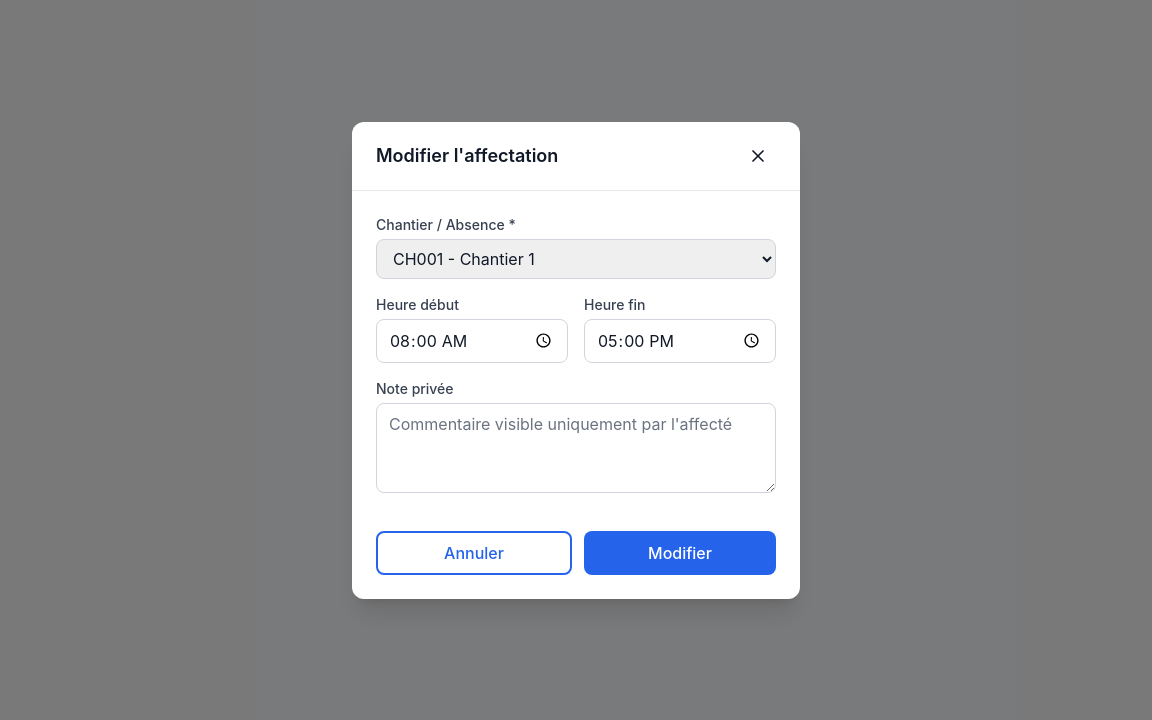
it: AffectationModal › Gestion des erreurs › affiche un message générique pour les erreurs non-Error
The image size is (1152, 720).
Click the button "Modifier". click: {"x": 680, "y": 552}
box: [584,530,776,574]
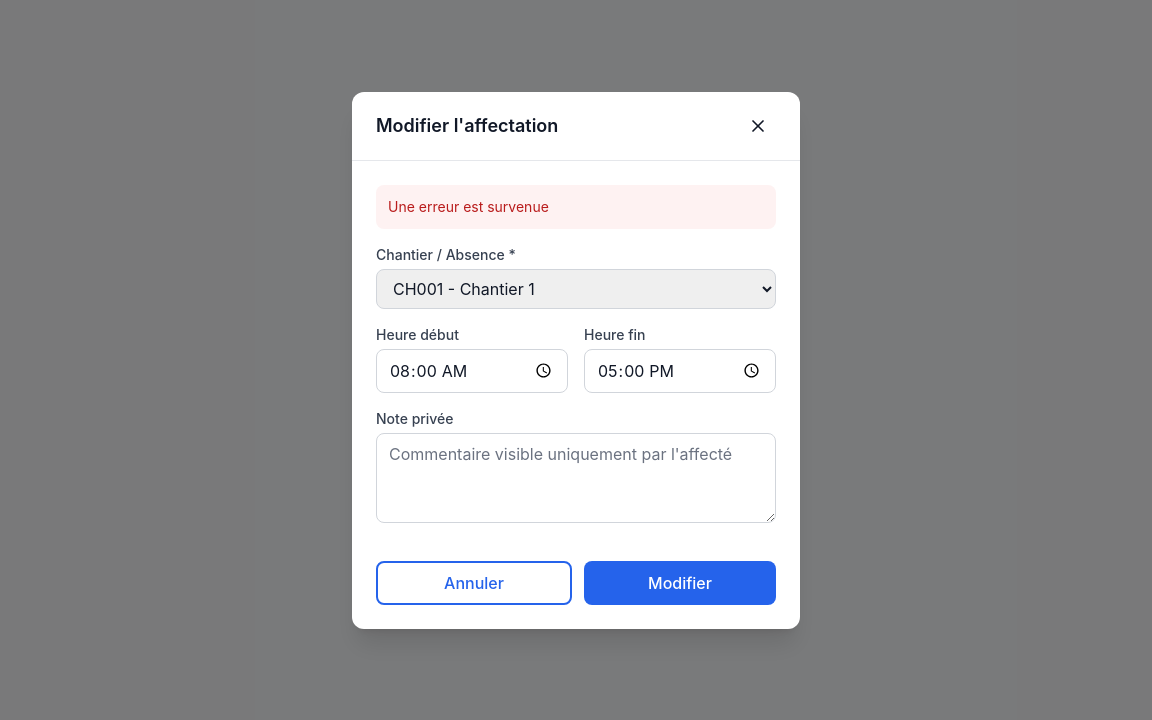
Expected: the text "Une erreur est survenue" is shown, [376,184,776,228]
